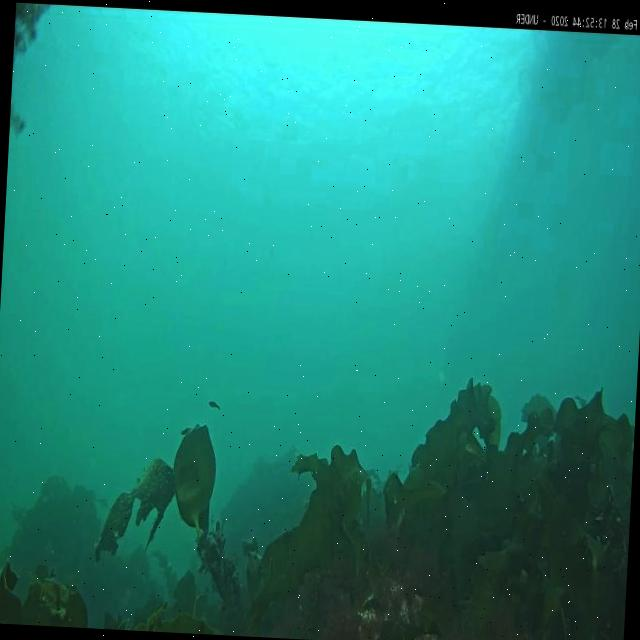fish: (208, 399, 222, 410)
